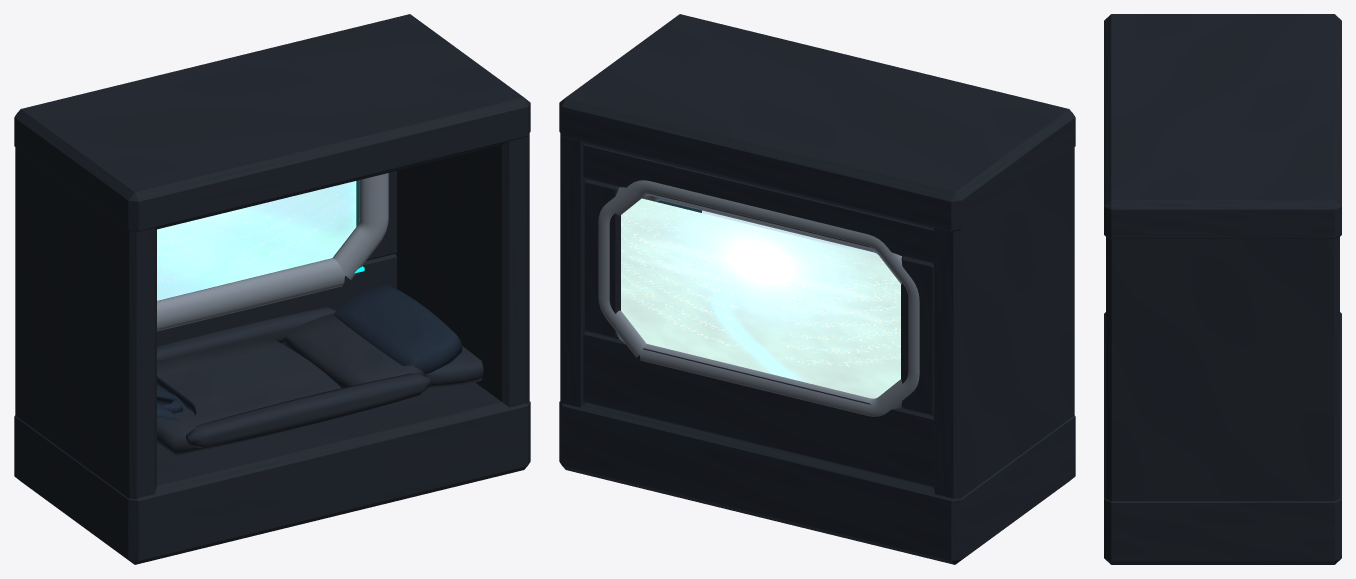
File: bunk_winner_01_orbital_viewport_cylinder.glb
3 renders of one model, left to right at view 1: azimuth 30°, elevation 25°; view 2: azimuth 150°, elevation 25°; view 3: azimuth 270°, elevation 25°, orthographic. The views are drawn at different scales.
Visible parts, largest first — view 1: ViewportPod_GunmetalHullAlcove, ViewportPod_ZeroGLoungeCouch, Vista_Backdrop, ViewportPod_TranslucentViewportGlass, ViewportPod_OctagonalTitaniumBezel, ViewportPod_OrbitalNavyBolsters; view 2: ViewportPod_GunmetalHullAlcove, Vista_Backdrop, ViewportPod_OctagonalTitaniumBezel; view 3: ViewportPod_GunmetalHullAlcove.
Part boxes in pixels (x1,y1,x2,y2): ViewportPod_GunmetalHullAlcove: (14,14,530,564); ViewportPod_ZeroGLoungeCouch: (157,307,483,455); Vista_Backdrop: (157,181,356,300); ViewportPod_TranslucentViewportGlass: (157,181,358,300); ViewportPod_OctagonalTitaniumBezel: (157,173,388,331); ViewportPod_OrbitalNavyBolsters: (157,284,462,420); ViewportPod_GunmetalHullAlcove: (559,14,1075,564); Vista_Backdrop: (621,198,900,398); ViewportPod_OctagonalTitaniumBezel: (598,180,919,416); ViewportPod_GunmetalHullAlcove: (1104,14,1341,564).
Size of the model in its own units: 2.18 by 1.93 by 1.14.
7 materials, 7 textured.
